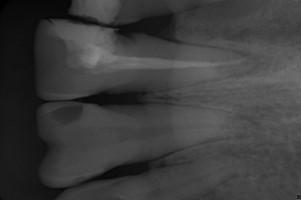Furcation Involvement: (217, 48, 289, 77)
